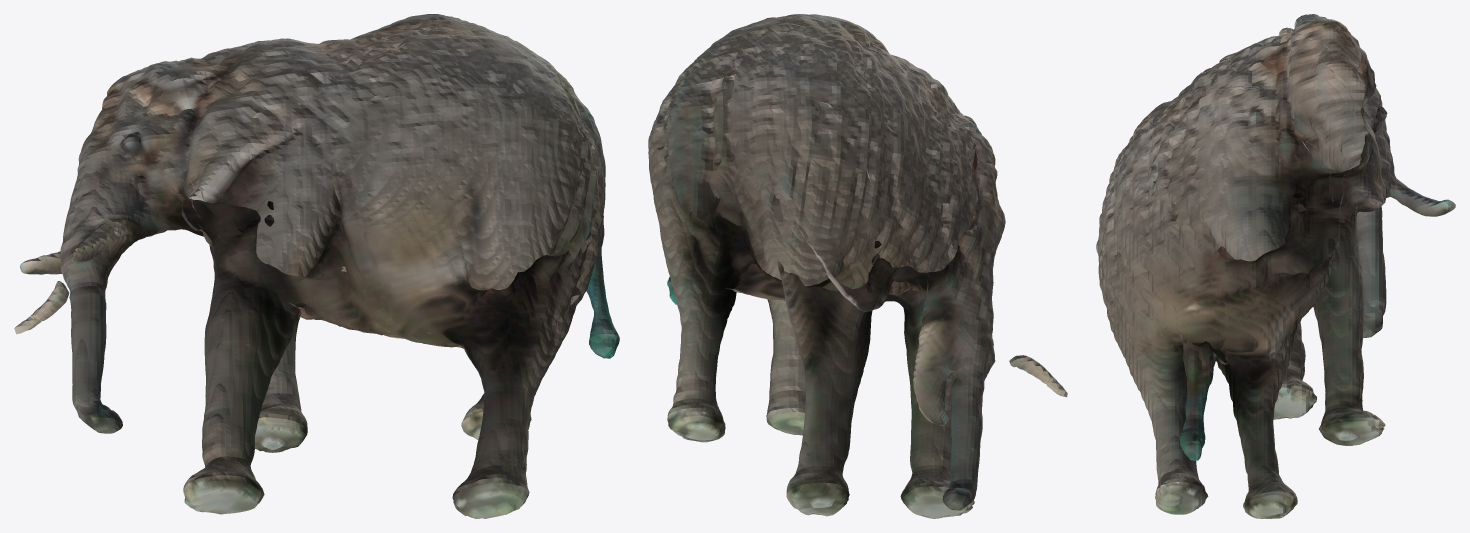
3 views of the same model, side by side, from view 1: azimuth 30°, elevation 25°; view 2: azimuth 150°, elevation 25°; view 3: azimuth 270°, elevation 25° (orthographic). The views are drawn at different scales.
Visible parts, largest first — view 1: geometry_0; view 2: geometry_0; view 3: geometry_0.
Part boxes in pixels (x1=…): geometry_0: x1=14, y1=14, x2=619, y2=518; geometry_0: x1=648, y1=14, x2=1067, y2=518; geometry_0: x1=1096, y1=14, x2=1455, y2=518.
Bounding box in the file's own units: 1.6 × 1.38 × 1.12.
